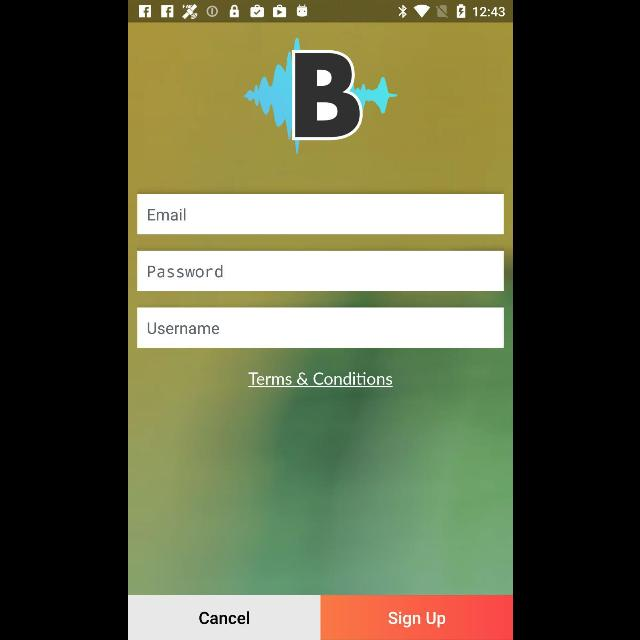image: (242, 38, 398, 154)
input: (137, 194, 503, 234), (137, 251, 503, 291), (137, 308, 503, 348)
text: (248, 372, 392, 388), (148, 265, 222, 277), (148, 323, 218, 335), (148, 209, 185, 221)
textbutton: (128, 596, 320, 640), (320, 596, 512, 640)
uppertaskbar: (128, 1, 512, 23)
